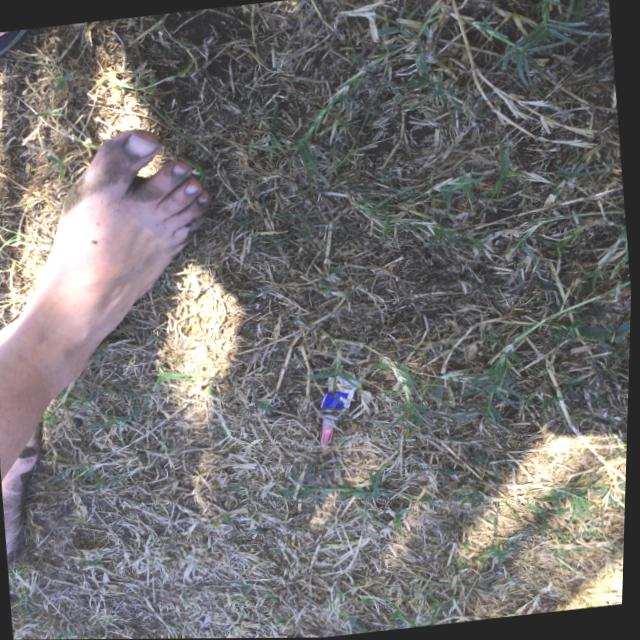Can-Metal: (314, 368, 367, 453)
Plastic: (313, 423, 348, 450)
